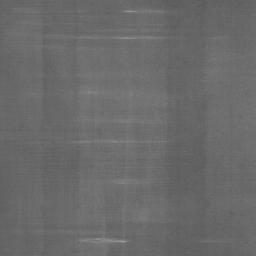Waist folding: (61, 229, 129, 245), (43, 33, 173, 41), (78, 7, 178, 16), (83, 177, 168, 186), (72, 138, 166, 146), (102, 118, 167, 125), (202, 237, 232, 244), (126, 220, 171, 224), (69, 90, 98, 96), (0, 6, 30, 9)
